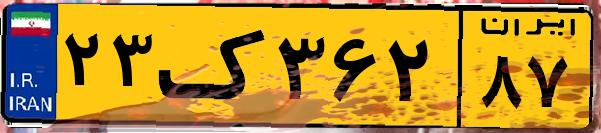2: (385, 28, 445, 110), (57, 26, 110, 100)
3: (270, 28, 330, 110), (110, 28, 158, 98)
6: (330, 28, 385, 110)
7: (525, 38, 570, 115)
8: (475, 38, 525, 113)
ک: (158, 12, 270, 120)
